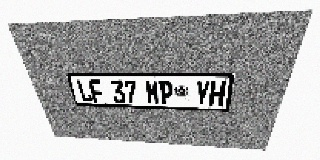3: (110, 80, 126, 103)
7: (123, 80, 138, 104)
F: (88, 80, 105, 103)
H: (208, 81, 226, 106)
L: (76, 80, 93, 102)
M: (145, 80, 160, 104)
P: (159, 80, 173, 105)
Y: (194, 81, 211, 106)
